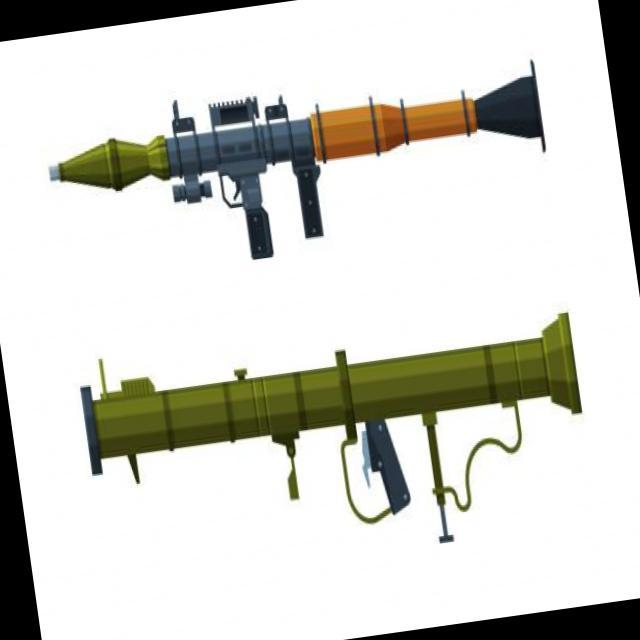rocket: (78, 306, 603, 587), (46, 52, 551, 264)
